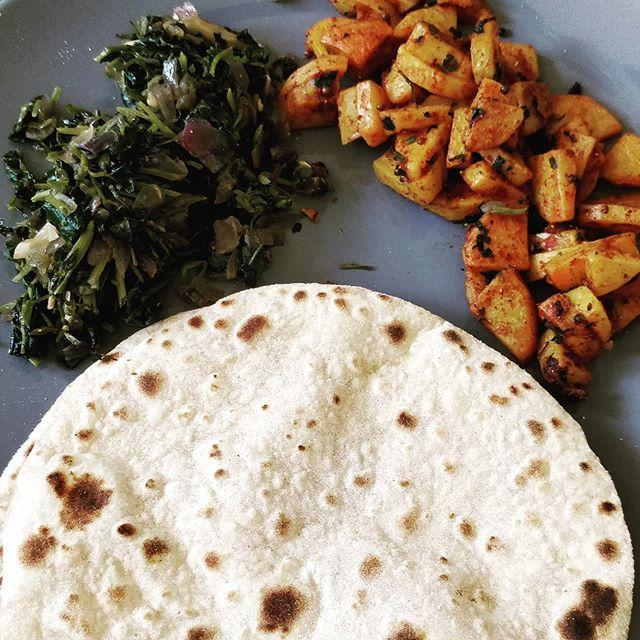Roti: (18, 291, 638, 628)
